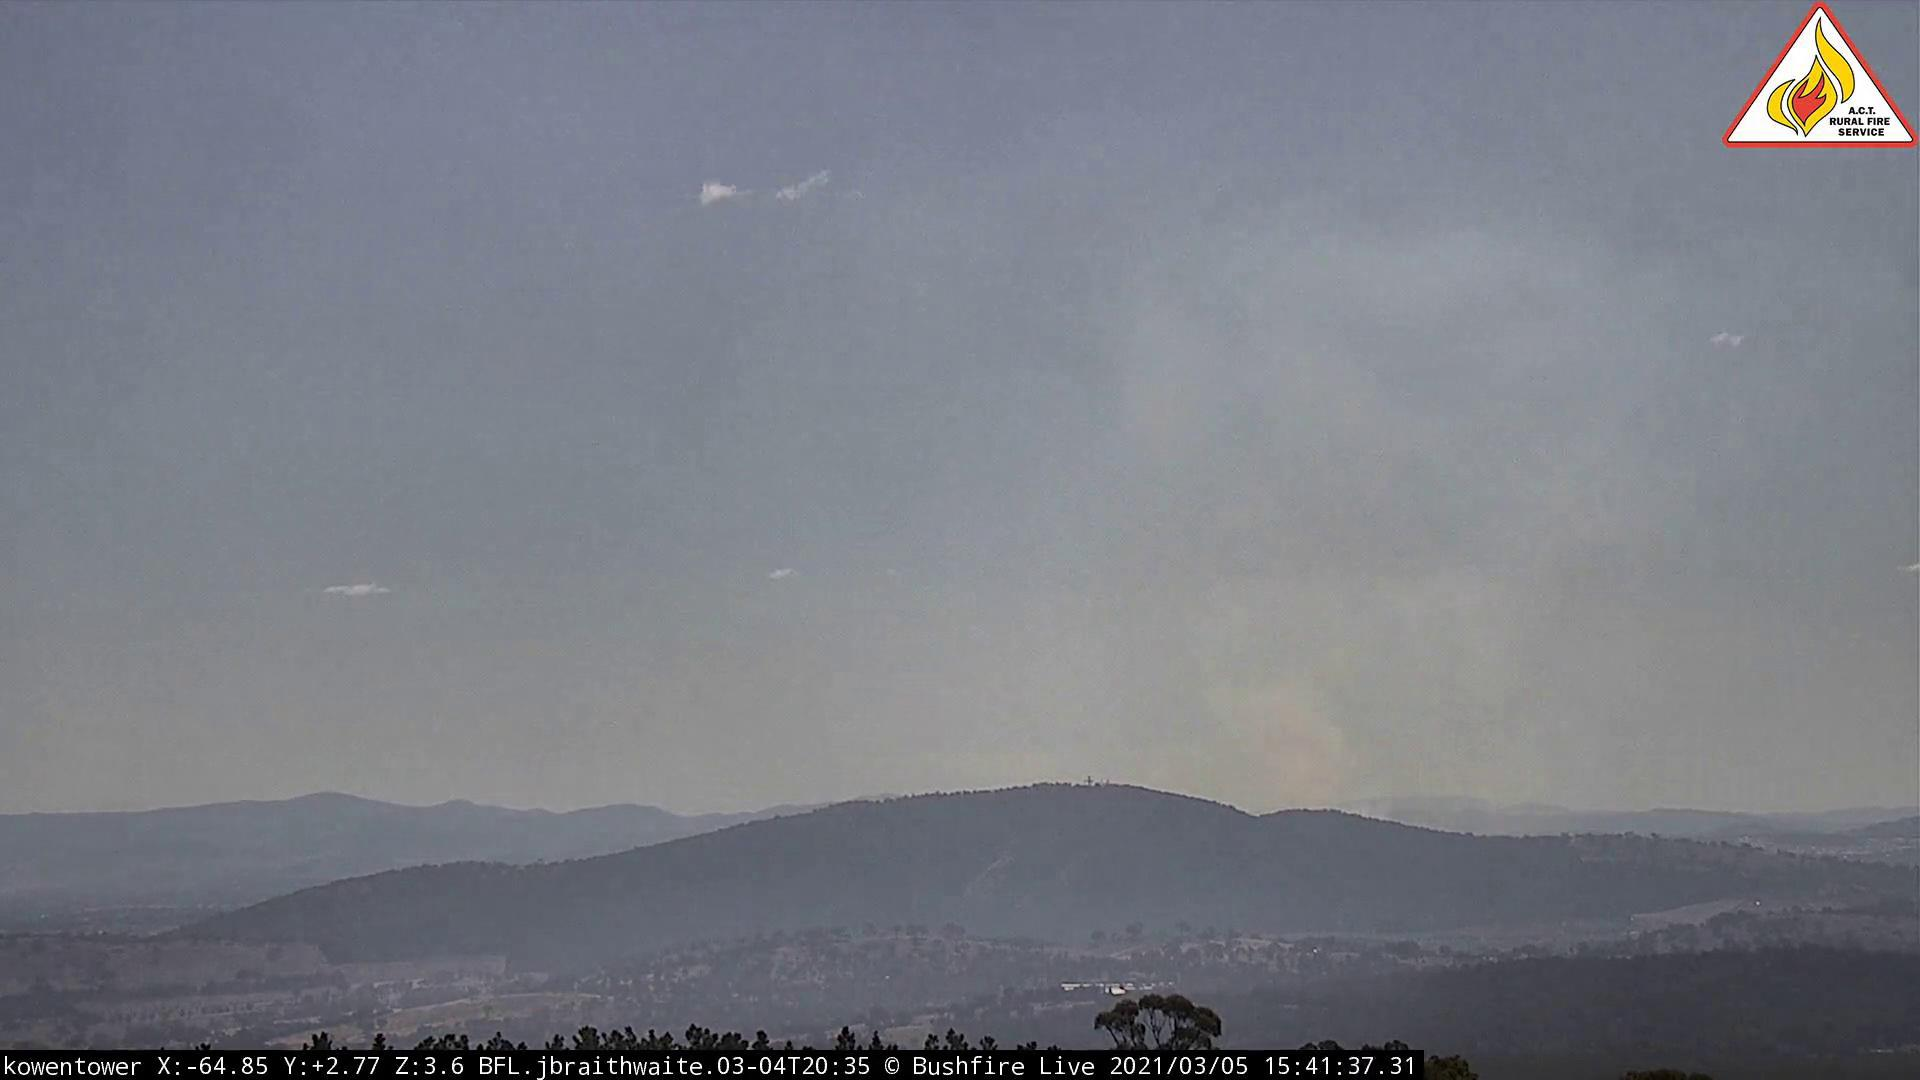Smoke: (923, 215, 1833, 861)
